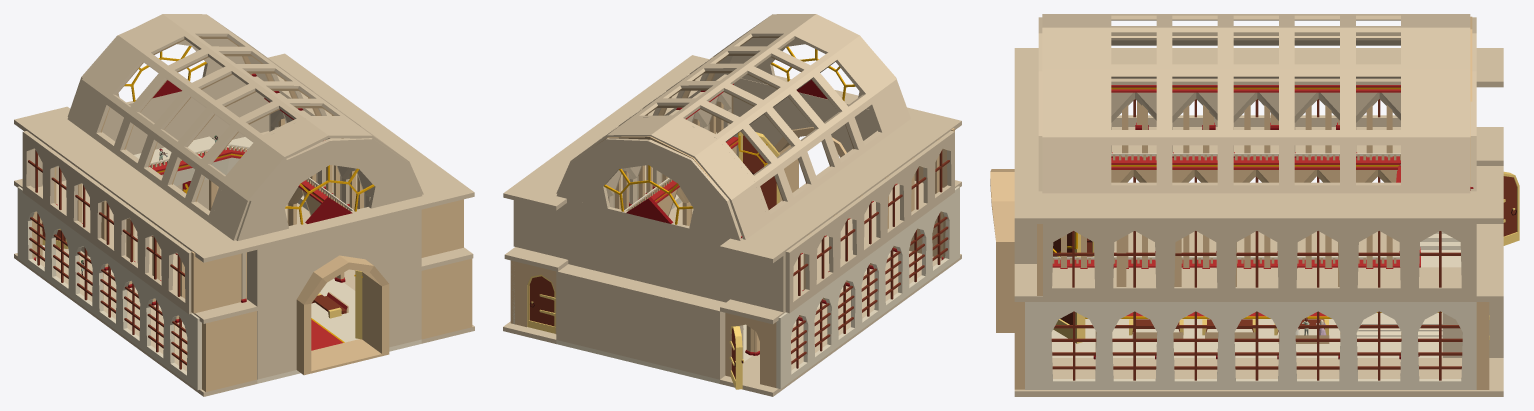
Rendered from room.glb.
The picture shows the model from 3 angles, left to right: view 1: azimuth 30°, elevation 25°; view 2: azimuth 150°, elevation 25°; view 3: azimuth 270°, elevation 25°; orthographic projection. The views are drawn at different scales.
Visible parts, largest first — view 1: Object_18, Object_16, Object_19, Object_17; view 2: Object_18, Object_16, Object_19, Object_17; view 3: Object_18, Object_16, Object_17, Object_19.
Boxes of the visible parts, x1,y1,x2,y2 form: Object_18: (14,14,474,396); Object_16: (14,28,474,391); Object_19: (42,31,315,248); Object_17: (128,117,372,389); Object_18: (503,14,961,396); Object_16: (503,38,961,388); Object_19: (527,83,816,389); Object_17: (511,83,959,324); Object_18: (990,14,1503,396); Object_16: (1014,17,1503,389); Object_17: (1052,85,1476,389); Object_19: (1286,14,1519,356).
Bounding box in the file's own units: 33.48 × 25.65 × 43.32.
Materials: 18 (18 with a texture image).
